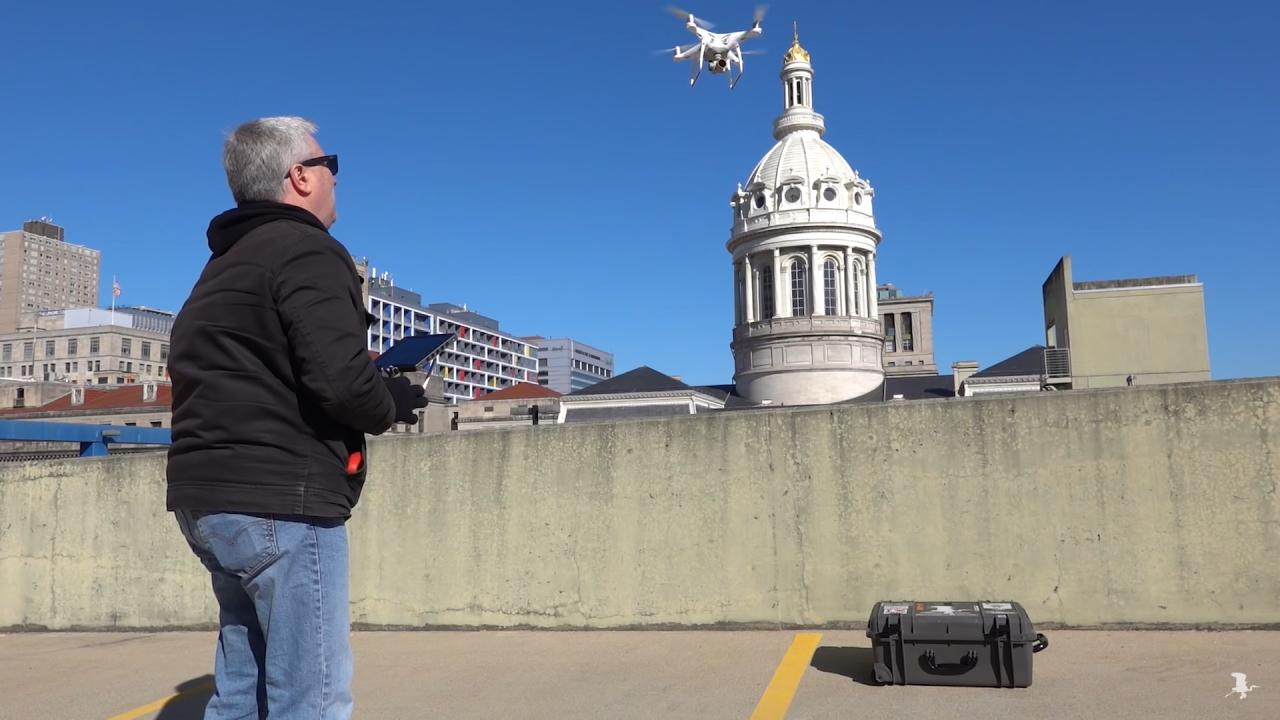Drone: (641, 0, 779, 98)
